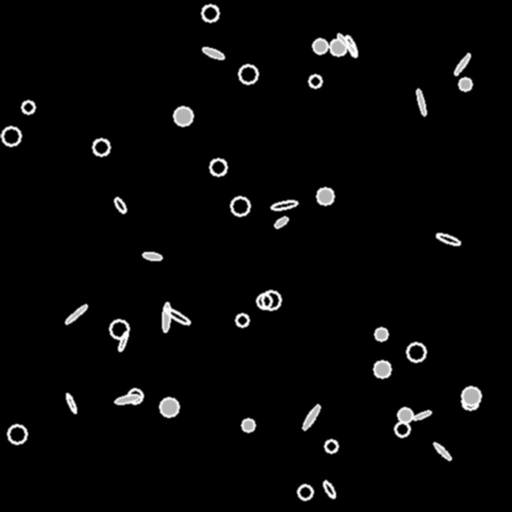pseudomonas: (301, 403, 321, 431), (163, 306, 191, 326), (336, 32, 356, 54), (65, 304, 87, 324), (453, 52, 471, 76), (432, 441, 452, 461), (201, 46, 225, 60), (344, 34, 358, 58), (436, 232, 460, 246), (271, 199, 297, 211), (415, 89, 427, 115), (112, 196, 128, 214), (115, 393, 139, 405), (117, 330, 129, 352), (322, 480, 336, 498), (65, 393, 77, 413), (412, 409, 432, 421), (273, 215, 289, 229), (162, 303, 170, 331), (143, 252, 161, 260)
synechocystis: (2, 127, 20, 145), (239, 65, 257, 83), (407, 343, 425, 361), (174, 107, 192, 125), (110, 320, 128, 338), (262, 291, 280, 309), (160, 398, 178, 416), (462, 387, 480, 405), (8, 425, 26, 443), (231, 197, 249, 215), (202, 5, 218, 21), (93, 139, 109, 155), (210, 159, 226, 175), (462, 393, 478, 409), (374, 361, 390, 377), (330, 39, 346, 55), (317, 188, 333, 204), (398, 408, 412, 422), (395, 422, 409, 436), (128, 389, 142, 403), (313, 39, 327, 53), (298, 485, 312, 499), (257, 294, 271, 308), (236, 314, 248, 326), (309, 75, 321, 87), (22, 101, 34, 113), (459, 78, 471, 90), (242, 419, 254, 431), (375, 328, 387, 340), (325, 440, 337, 452)
